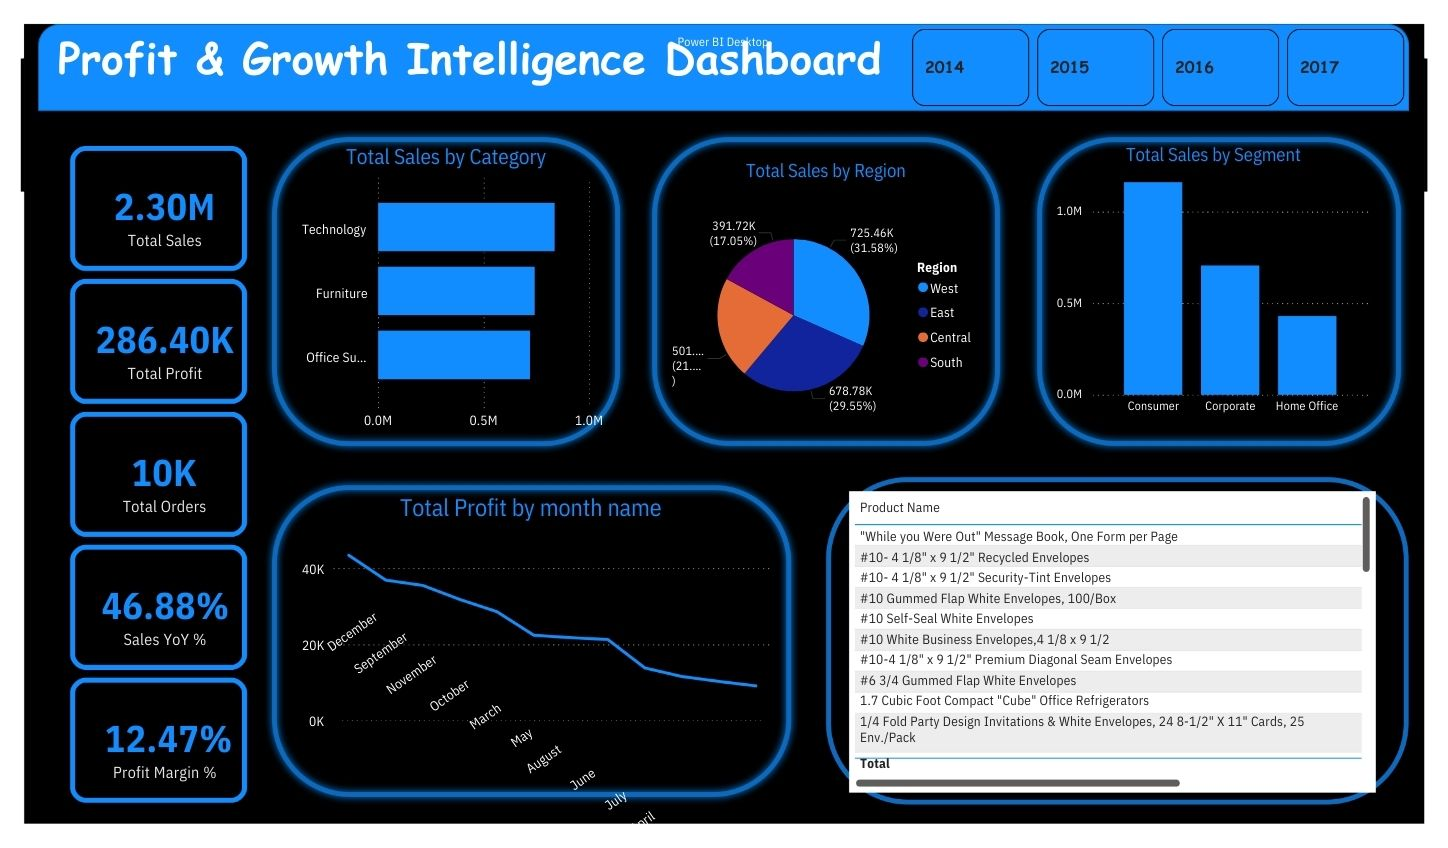

Layout of this report page (visuals, bound fields, positions):
{"tool":"powerbi","page":{"name":"Overview","canvas":[1400,800],"ordinal":0},"visuals":[{"type":"cardVisual","fields":{"Data":["All Measure.Total Sales","All Measure.Total Profit","All Measure.Total Orders","All Measure.Sales YoY %","All Measure.Profit Margin %"]},"box":[28.9,105.4,210.8,694.5],"z":0},{"type":"shape","box":[14.5,0,1370.4,86.8],"z":1000},{"type":"textbox","box":[28.9,0,853.6,105.4],"z":2000},{"type":"advancedSlicerVisual","fields":{"Values":["Date.year"]},"box":[882.6,0,502.3,86.8],"z":3000},{"type":"shape","box":[239.8,105.4,363.8,324.5],"z":4000},{"type":"shape","box":[620.1,105.4,363.8,324.5],"z":5000},{"type":"shape","box":[1004.5,105.4,380.3,324.5],"z":6000},{"type":"shape","box":[239.8,452.7,535.3,328.6],"z":7000},{"type":"shape","box":[802,452.7,582.9,328.6],"z":8000},{"type":"lineChart","fields":{"Y":["All Measure.Total Profit"],"Category":["Date.month name"]},"box":[260.4,467.1,491.9,301.8],"z":9000},{"type":"pieChart","fields":{"Category":["Orders.Region"],"Y":["All Measure.Total Sales"]},"box":[640.8,134.4,322.4,295.6],"z":10000},{"type":"barChart","fields":{"Category":["Orders.Category"],"Y":["All Measure.Total Sales"]},"box":[260.4,117.8,324.5,297.6],"z":11000},{"type":"clusteredColumnChart","fields":{"Y":["All Measure.Total Sales"],"Category":["Orders.Segment"]},"box":[1027.3,117.8,324.5,283.2],"z":12000},{"type":"tableEx","fields":{"Values":["Orders.Product Name","Sum(Orders.Sales)","Sum(Orders.Profit)","All Measure.Profit Margin %"]},"box":[824.7,467.1,527.1,301.8],"z":13000}]}

Visuals, with their boxes on the page's 1400x800 design canvas (x1, y1, x2, y2). These are canvas units, not pixel positions in the 1448x848 screenshot, which may show the page scaled, cropped or inside an application window:
cardVisual - All Measure.Total Sales x All Measure.Total Profit: select_region(29, 105, 240, 800)
shape: select_region(14, 0, 1385, 87)
textbox: select_region(29, 0, 882, 105)
advancedSlicerVisual - Date.year: select_region(883, 0, 1385, 87)
shape: select_region(240, 105, 604, 430)
shape: select_region(620, 105, 984, 430)
shape: select_region(1004, 105, 1385, 430)
shape: select_region(240, 453, 775, 781)
shape: select_region(802, 453, 1385, 781)
lineChart - All Measure.Total Profit x Date.month name: select_region(260, 467, 752, 769)
pieChart - Orders.Region x All Measure.Total Sales: select_region(641, 134, 963, 430)
barChart - Orders.Category x All Measure.Total Sales: select_region(260, 118, 585, 415)
clusteredColumnChart - All Measure.Total Sales x Orders.Segment: select_region(1027, 118, 1352, 401)
tableEx - Orders.Product Name x Sum(Orders.Sales): select_region(825, 467, 1352, 769)
